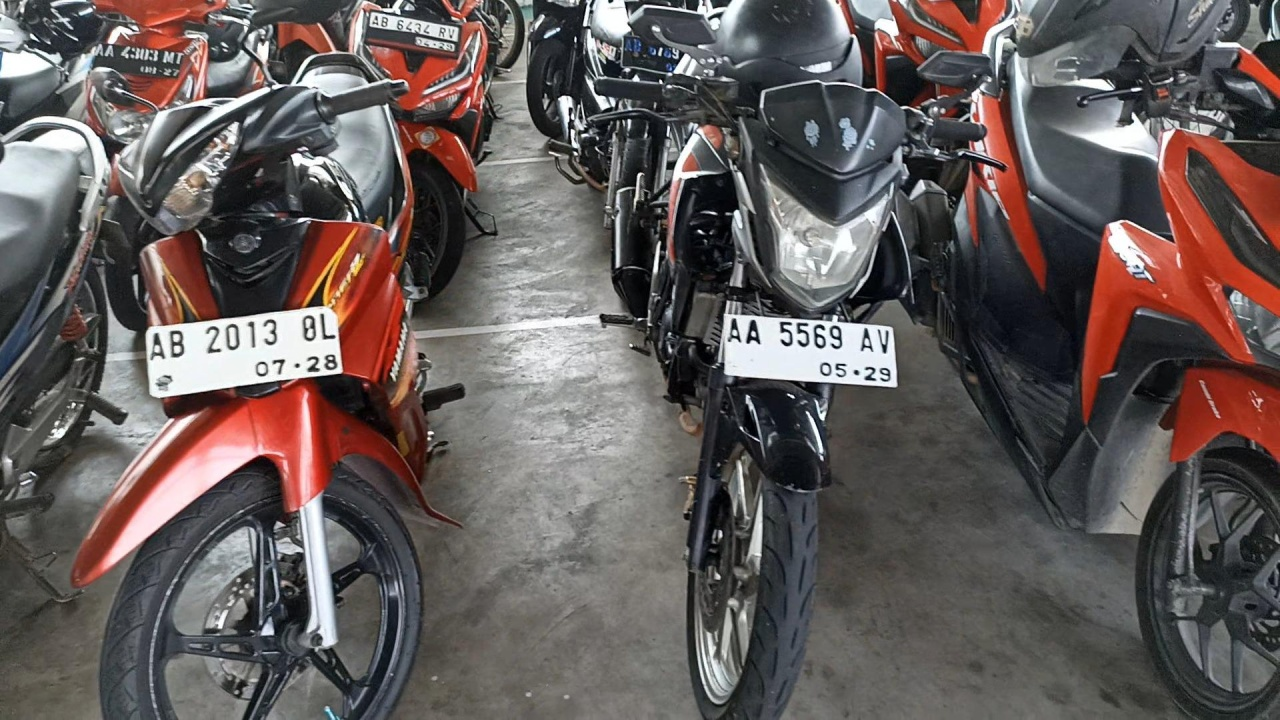plate: (147, 306, 343, 399), (725, 315, 898, 387), (364, 9, 462, 60), (92, 42, 185, 79)
